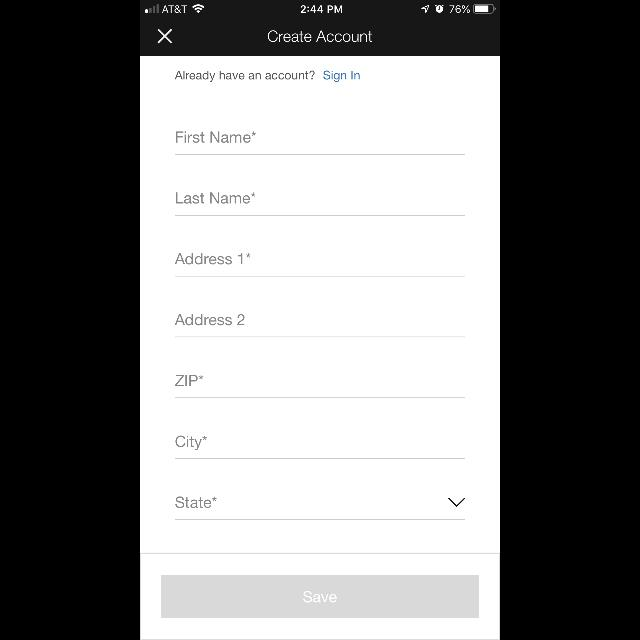icon: (158, 28, 172, 44), (448, 498, 466, 507)
input: (175, 496, 465, 520), (175, 435, 465, 459), (175, 375, 465, 399), (175, 314, 465, 338), (175, 253, 465, 277), (175, 192, 465, 216), (175, 131, 465, 155)
text: (175, 71, 315, 83), (268, 30, 372, 42), (176, 192, 256, 204), (176, 131, 256, 143), (175, 253, 251, 265), (175, 314, 245, 326), (176, 497, 217, 508), (175, 436, 207, 450), (324, 71, 360, 83), (176, 376, 204, 386)
textbutton: (161, 576, 479, 618)
uppertaskbar: (140, 0, 500, 14)
